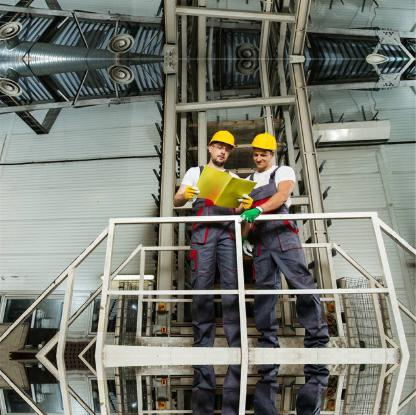helmet: (248, 129, 281, 169), (206, 125, 240, 161)
